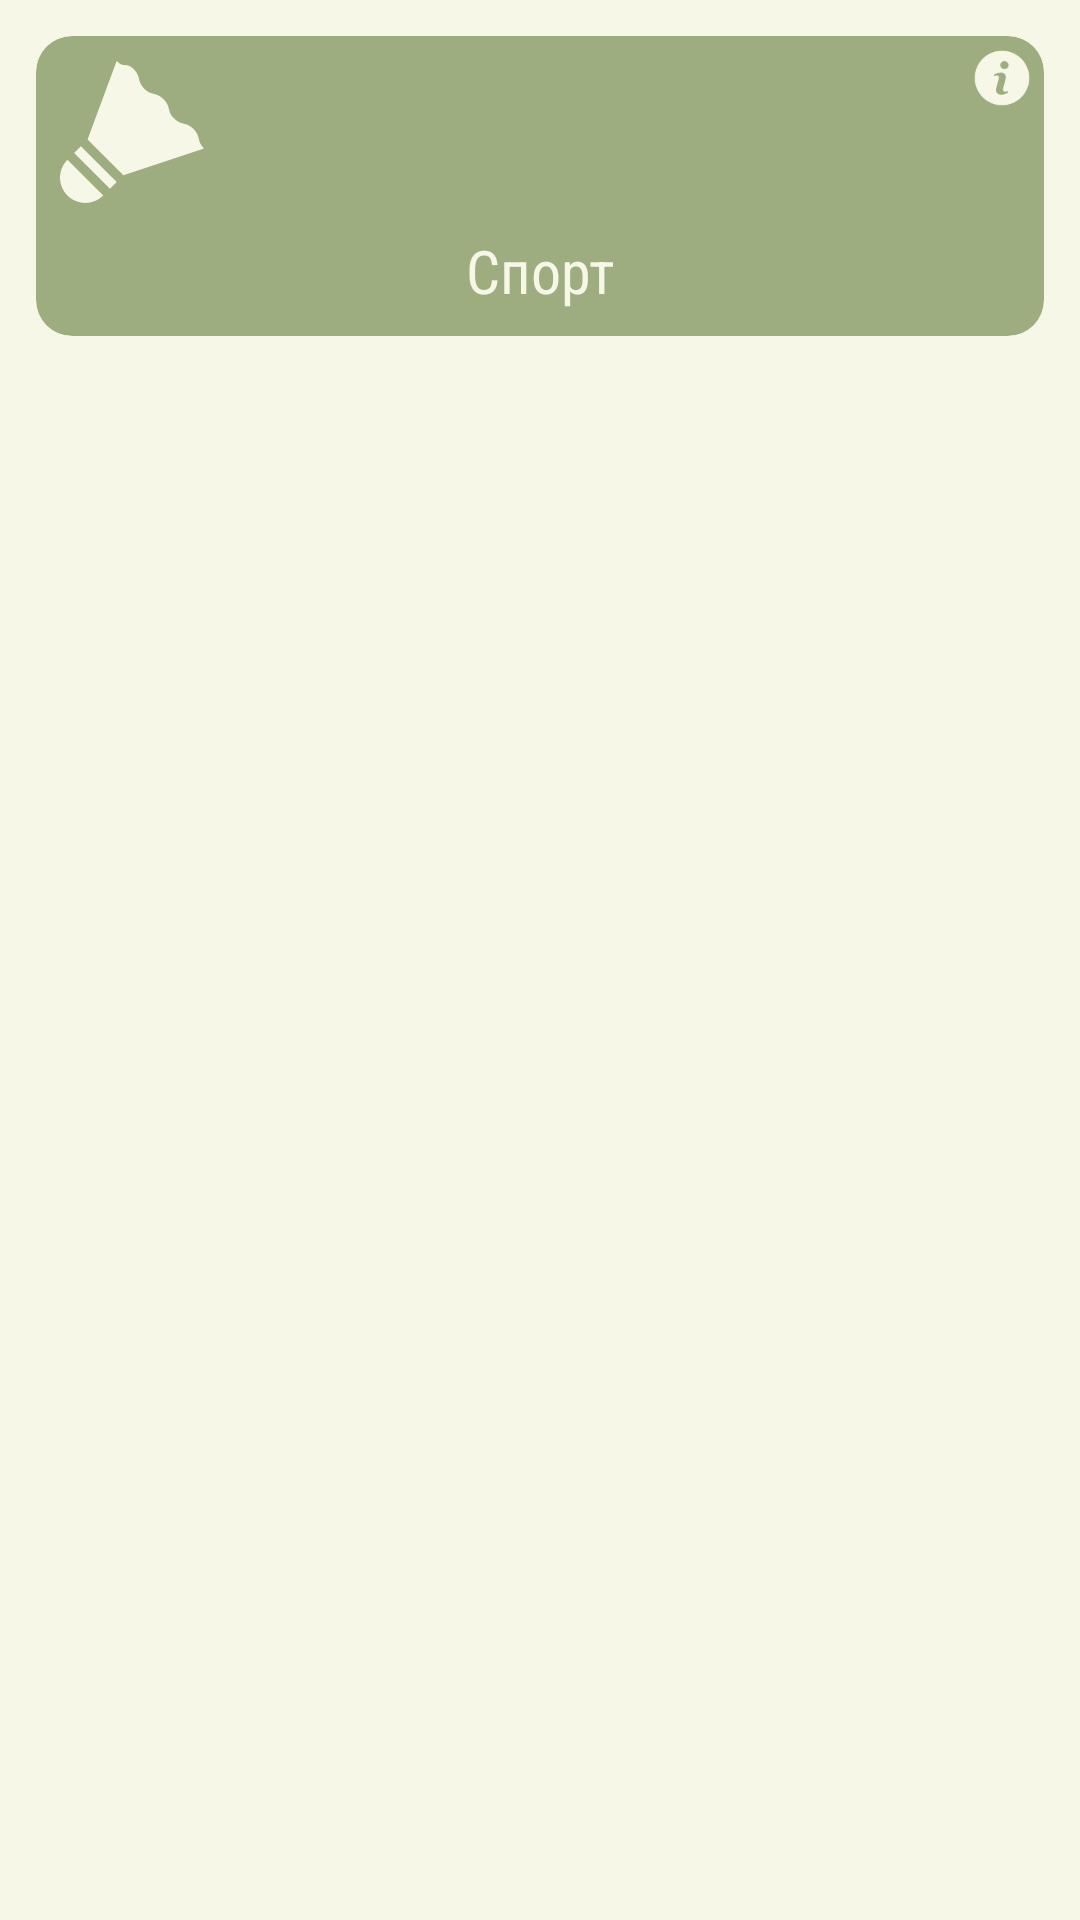

Point at icon controls on the screen. Image size 1080×1920, points as (x=x, y=y).
Инормация о категории: (x=1002, y=78)
